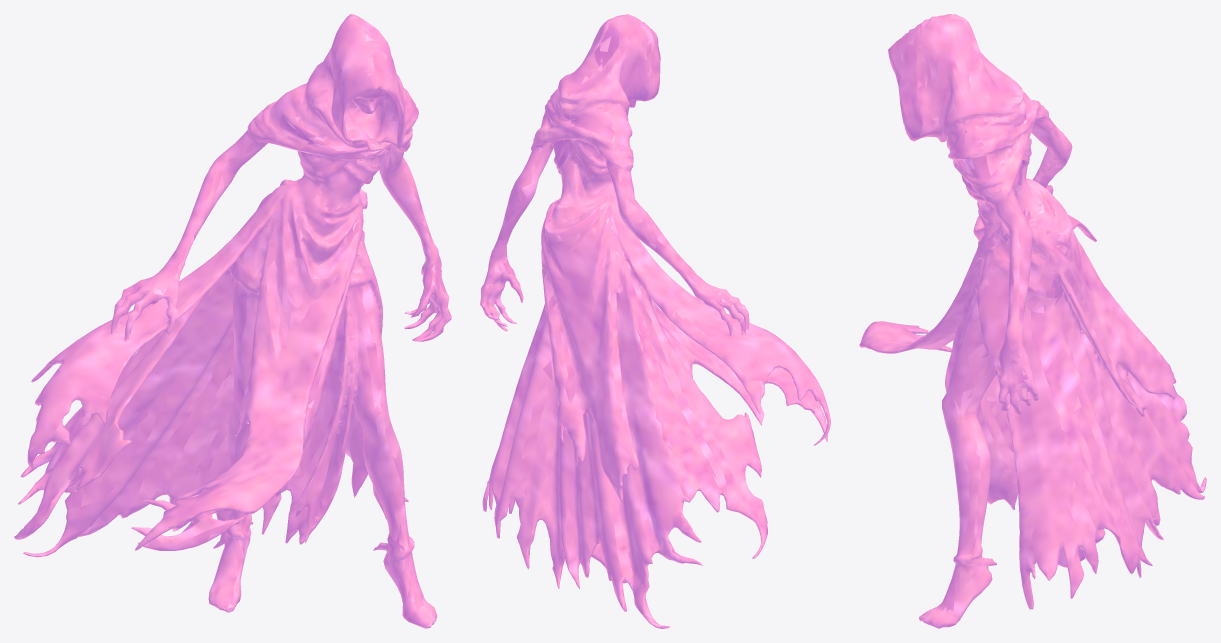
The model's file is shadow_stalker.glb.
3 views of the same model, side by side, from view 1: azimuth 30°, elevation 25°; view 2: azimuth 150°, elevation 25°; view 3: azimuth 270°, elevation 25° (orthographic). The views are drawn at different scales.
Visible parts, largest first — view 1: Mesh1.0; view 2: Mesh1.0; view 3: Mesh1.0.
Boxes of the visible parts, x1=… form: Mesh1.0: x1=14, y1=14, x2=451, y2=628; Mesh1.0: x1=480, y1=14, x2=830, y2=628; Mesh1.0: x1=859, y1=14, x2=1206, y2=628.
Size of the model in its own units: 1.35 by 1.91 by 1.04.
Materials: 1 (1 with a texture image).
